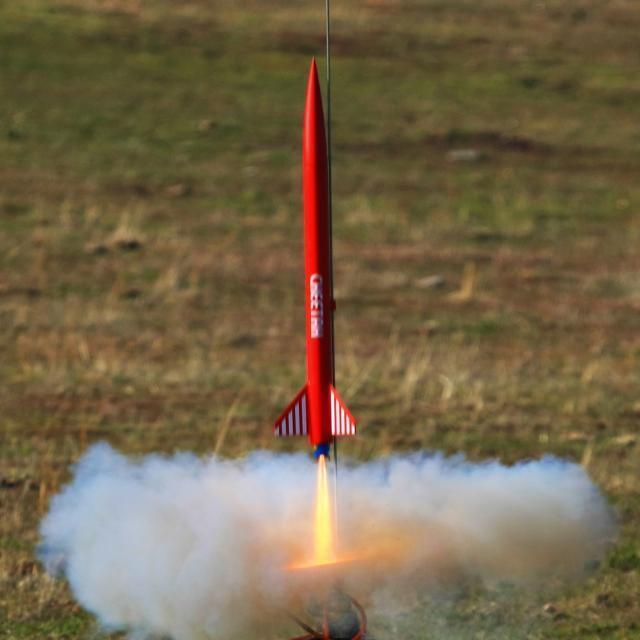missile: (260, 47, 370, 490)
